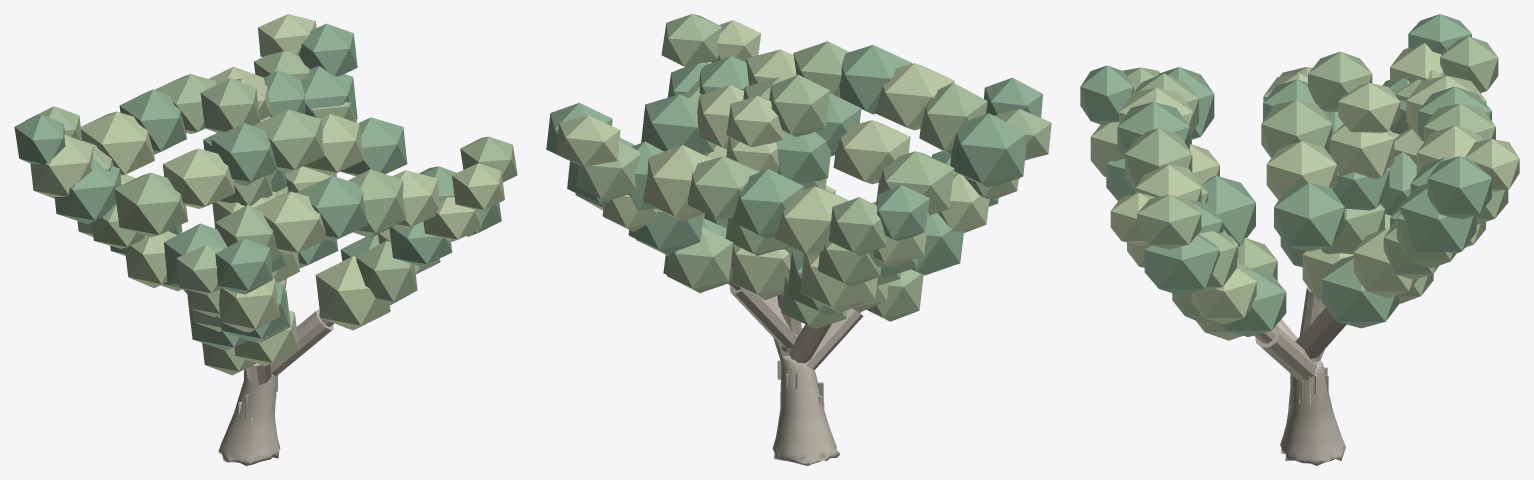
The model's file is plane-tree-b.glb.
The picture shows the model from 3 angles, left to right: view 1: azimuth 30°, elevation 25°; view 2: azimuth 150°, elevation 25°; view 3: azimuth 270°, elevation 25°; orthographic projection. The views are drawn at different scales.
Visible parts, largest first — view 1: plane-tree-b; view 2: plane-tree-b; view 3: plane-tree-b.
Boxes of the visible parts, x1,y1,x2,y2 form: plane-tree-b: [14, 14, 517, 465]; plane-tree-b: [546, 14, 1051, 465]; plane-tree-b: [1080, 14, 1519, 465].
Size of the model in its own units: 9.18 by 8.74 by 8.75.
